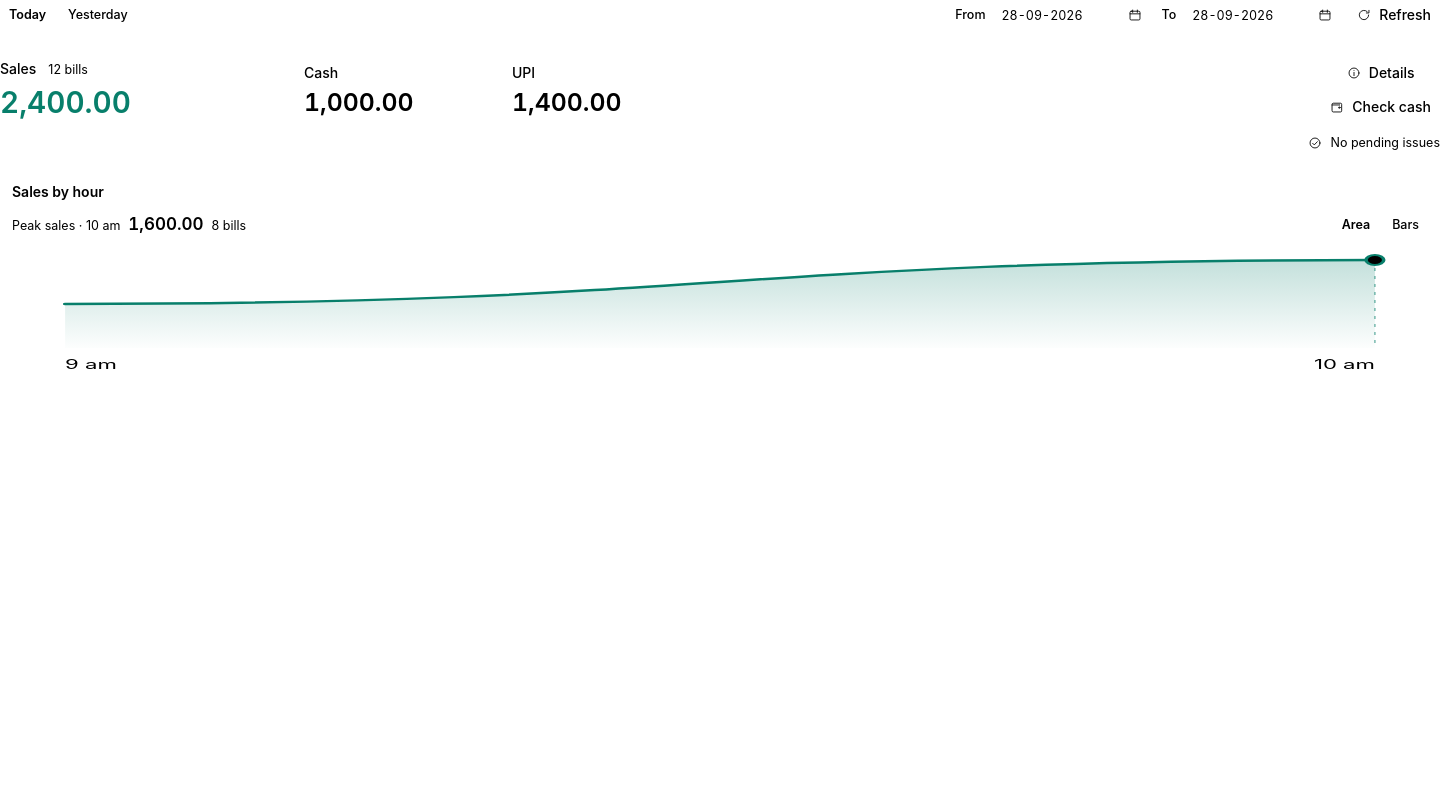
keeps sales payments visible and drawer movements behind Check cash
The width and height of the screenshot is (1440, 810).
Expected: the text "2,400.00" is shown, [0,84,131,120]
Expected: the text "Opening cash" is not shown
Click the button "Check cash" at (1381, 107), box [1321,92,1439,122]
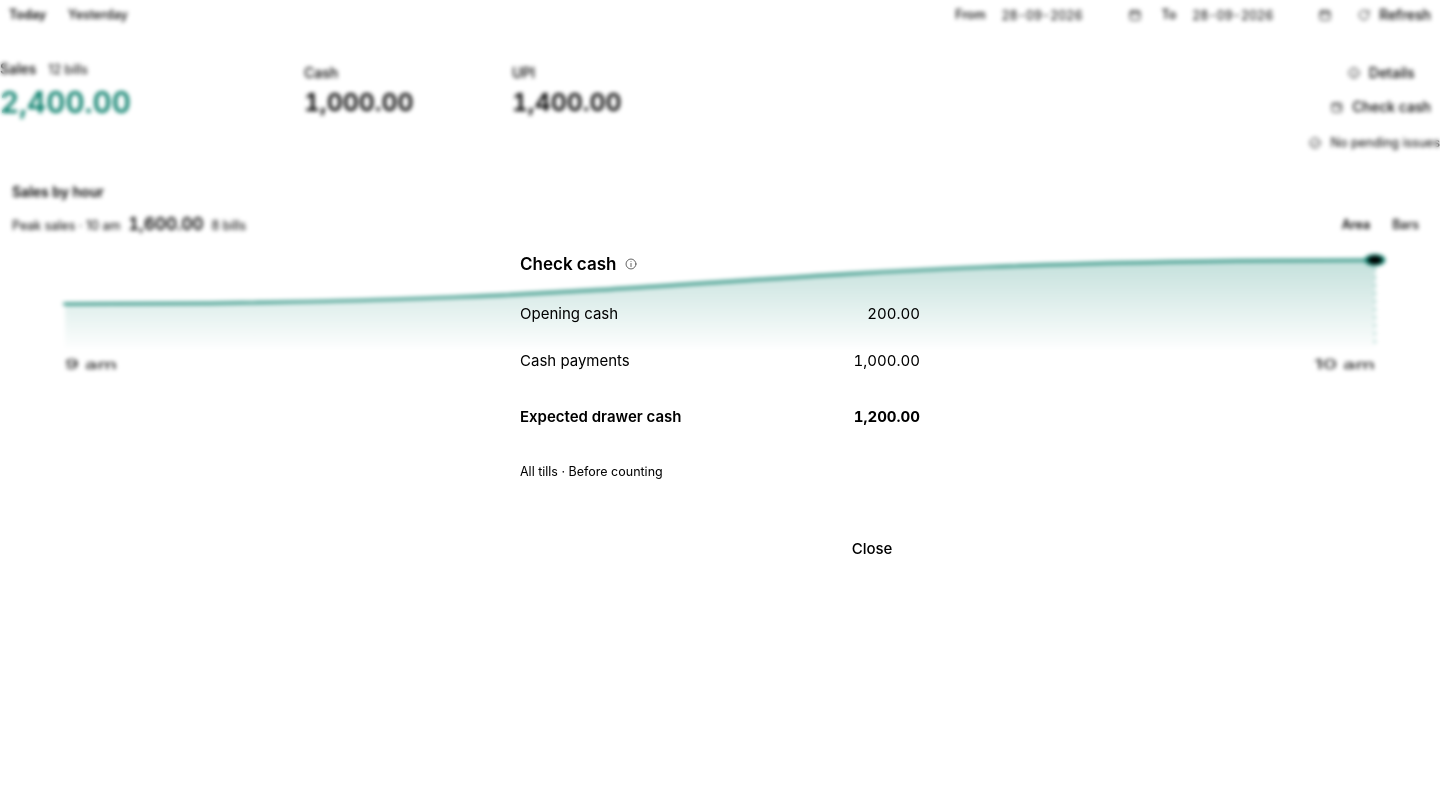
Expected: the text "Opening cash" is shown, [520,303,618,326]
Expected: the text "1,200.00" is shown, [854,406,920,428]
Press Escape
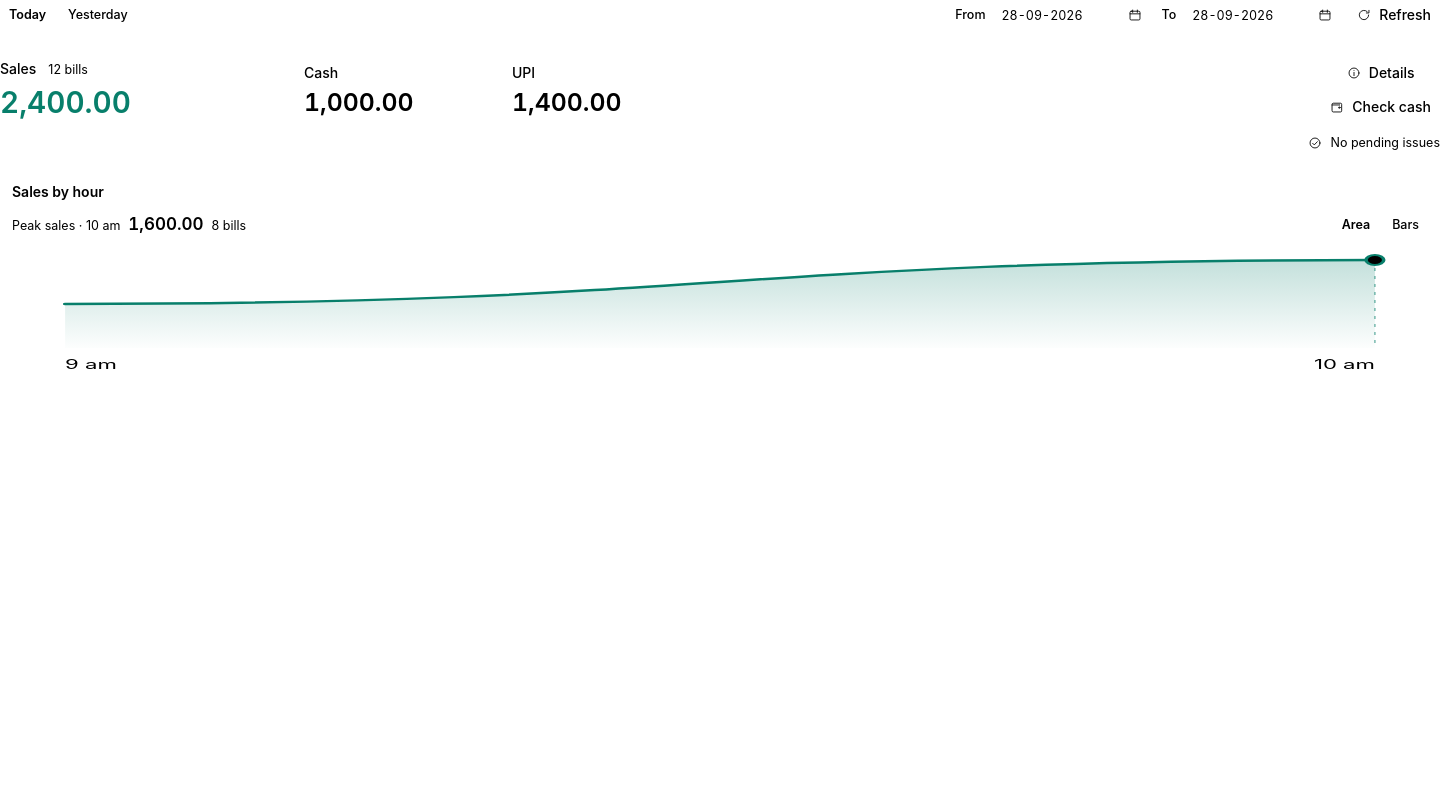
Expected: the dialog is gone
